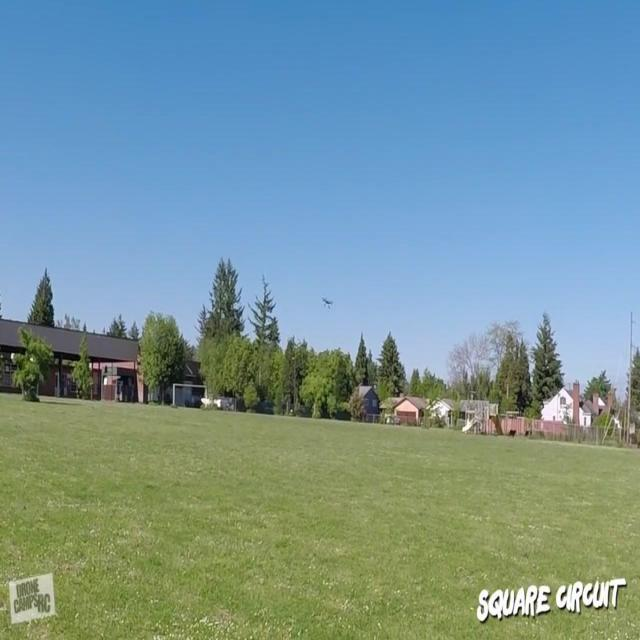UAV: (321, 297, 334, 308)
